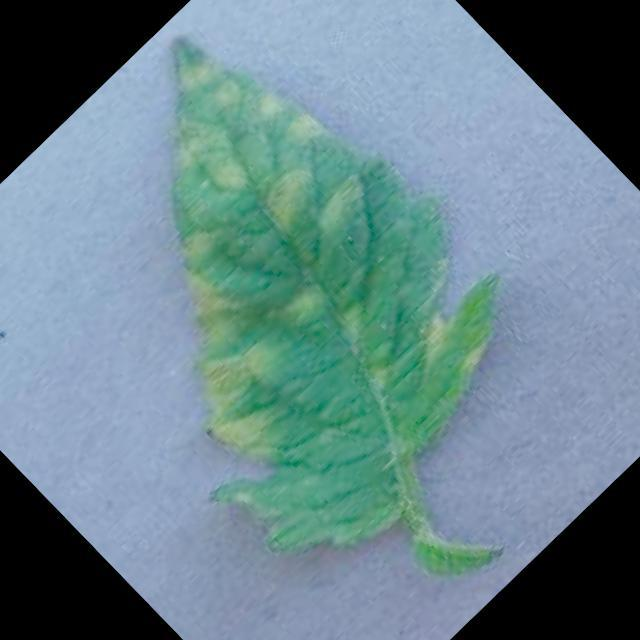Tomato mold leaf: (0, 0, 583, 605)
